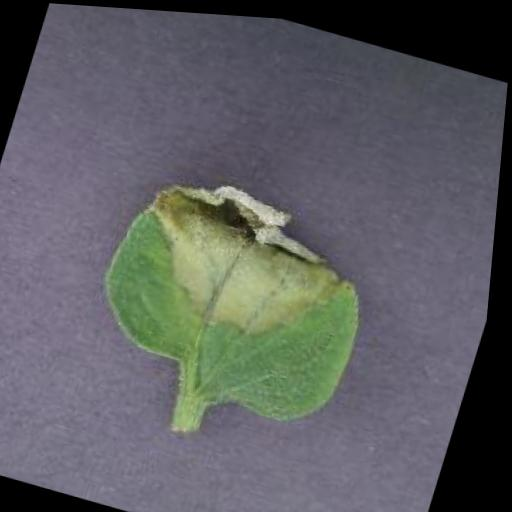Late Blight: (77, 153, 407, 437)
